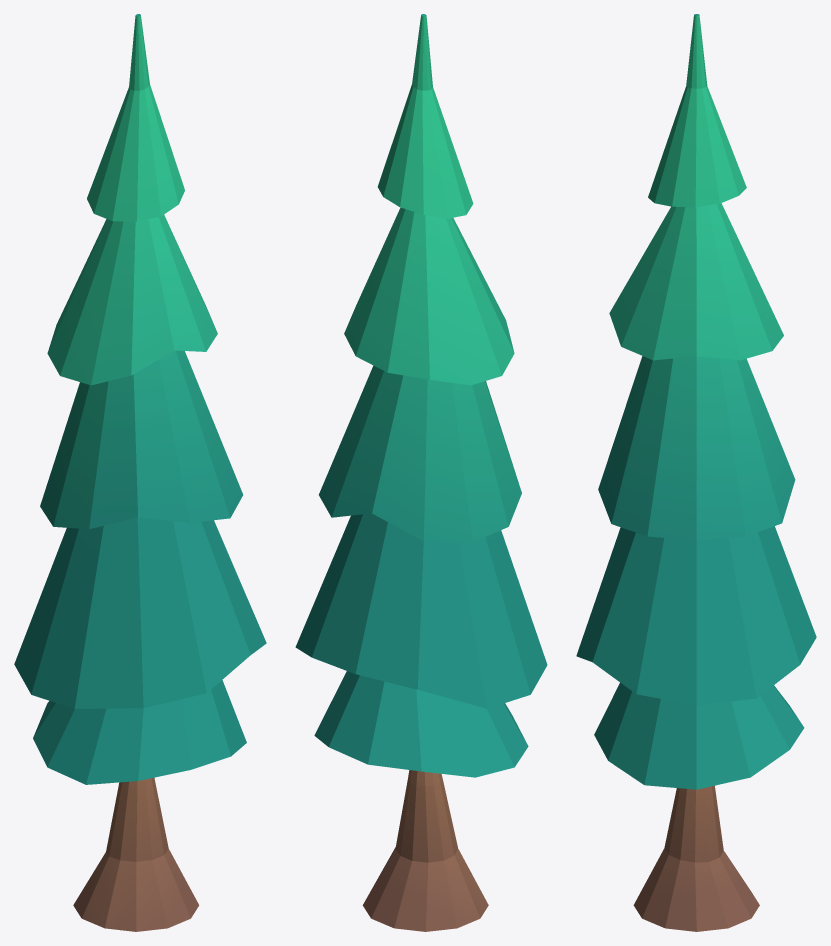
File: Sapin_01.obj
3 renders of one model, left to right at view 1: azimuth 30°, elevation 25°; view 2: azimuth 150°, elevation 25°; view 3: azimuth 270°, elevation 25°, orthographic.
Visible parts, largest first — view 1: Cylinder_Cylinder.002; view 2: Cylinder_Cylinder.002; view 3: Cylinder_Cylinder.002.
Boxes of the visible parts, x1,y1,x2,y2 form: Cylinder_Cylinder.002: (14, 14, 266, 931); Cylinder_Cylinder.002: (295, 14, 547, 931); Cylinder_Cylinder.002: (576, 14, 816, 931).
Size of the model in its own units: 4.02 by 15.57 by 3.81.
